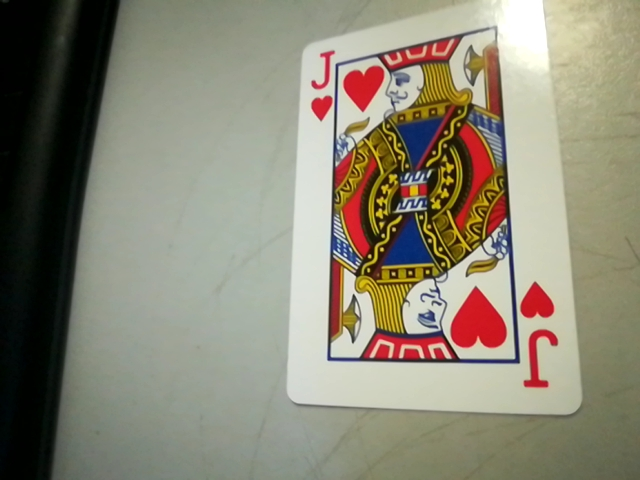hx j: (509, 273, 573, 398)
